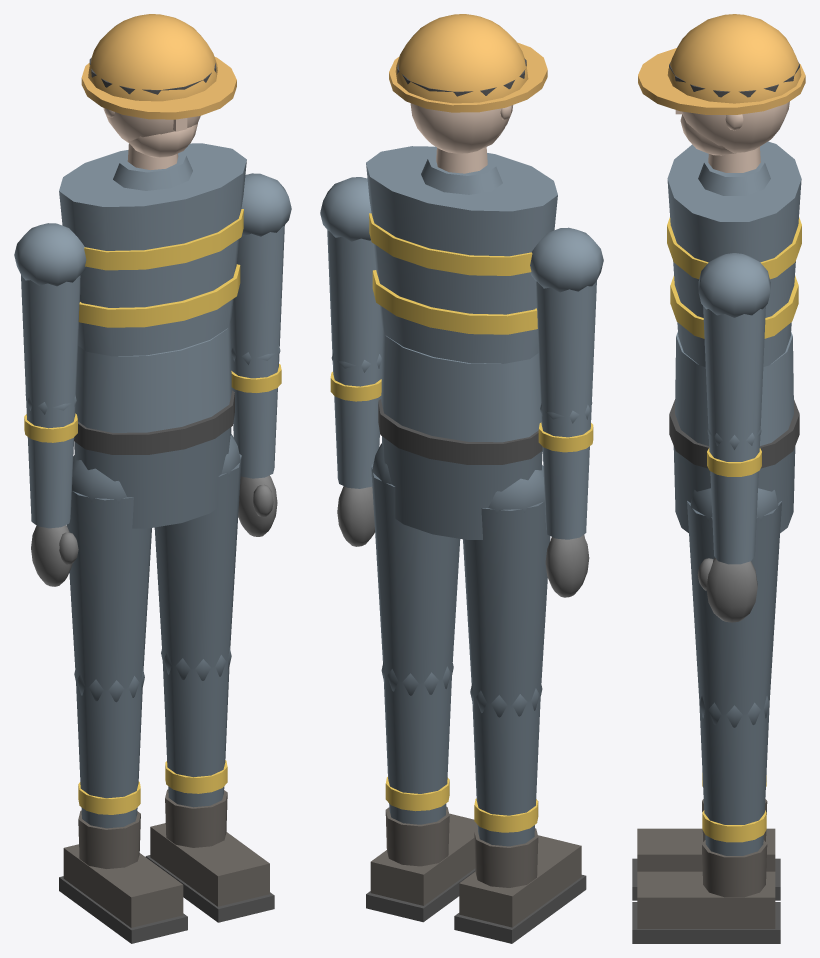
Rendered from electric_A.glb.
3 views of the same model, side by side, from view 1: azimuth 30°, elevation 25°; view 2: azimuth 150°, elevation 25°; view 3: azimuth 270°, elevation 25° (orthographic). The views are drawn at different scales.
Visible parts, largest first — view 1: chest, head, hip_R, hip_L, spine, pelvis, ankle_R, shoulder_R, ankle_L, knee_R, knee_L, shoulder_L (+5 smaller); view 2: chest, hip_R, head, hip_L, spine, pelvis, shoulder_R, ankle_R, knee_L, knee_R, ankle_L, shoulder_L (+5 smaller); view 3: chest, head, hip_L, ankle_L, shoulder_L, knee_L, elbow_L, pelvis, spine, ankle_R, wrist_L, neck.
Part boxes in pixels (<box>): chest: <box>59,143,246,356</box>; head: <box>81,14,236,157</box>; hip_R: <box>66,455,151,690</box>; hip_L: <box>154,434,241,669</box>; spine: <box>75,322,231,432</box>; pelvis: <box>74,390,234,528</box>; ankle_R: <box>59,810,187,943</box>; shoulder_R: <box>14,223,86,408</box>; ankle_L: <box>145,789,274,922</box>; knee_R: <box>74,668,144,828</box>; knee_L: <box>161,647,231,807</box>; shoulder_L: <box>230,173,291,358</box>; chest: <box>366,146,557,363</box>; hip_R: <box>463,465,550,705</box>; head: <box>389,14,547,153</box>; hip_L: <box>371,443,460,683</box>; spine: <box>381,328,541,442</box>; pelvis: <box>378,399,542,539</box>; shoulder_R: <box>530,227,603,416</box>; ankle_R: <box>454,828,586,943</box>; knee_L: <box>381,661,453,824</box>; knee_R: <box>470,683,542,846</box>; ankle_L: <box>366,806,477,922</box>; shoulder_L: <box>320,177,382,365</box>; chest: <box>667,141,801,366</box>; head: <box>638,14,805,155</box>; hip_L: <box>687,488,781,714</box>; ankle_L: <box>632,840,780,943</box>; shoulder_L: <box>698,253,770,441</box>; knee_L: <box>699,696,769,855</box>; elbow_L: <box>707,428,761,564</box>; pelvis: <box>669,399,799,533</box>; spine: <box>675,331,793,445</box>; ankle_R: <box>632,799,780,900</box>; wrist_L: <box>697,558,757,622</box>; neck: <box>708,147,760,172</box>.
Bounding box in the file's own units: 0.6182 × 1.92 × 0.3392.
